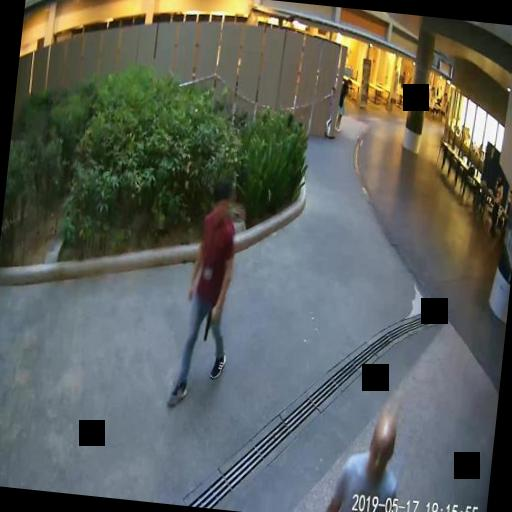Handgun: (202, 307, 217, 340)
